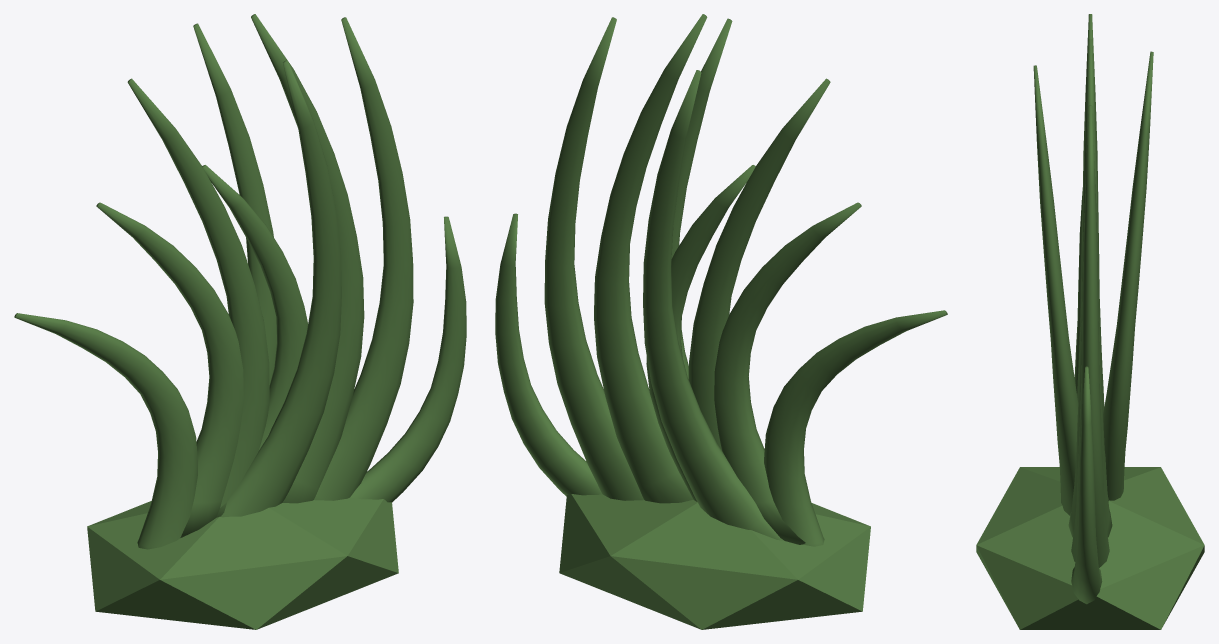
The model's file is Grass.fbx.
The picture shows the model from 3 angles, left to right: view 1: azimuth 30°, elevation 25°; view 2: azimuth 150°, elevation 25°; view 3: azimuth 270°, elevation 25°; orthographic projection. The views are drawn at different scales.
Visible parts, largest first — view 1: Grass; view 2: Grass; view 3: Grass.
Part boxes in pixels (x1,y1,x2,y2): Grass: [14, 14, 466, 629]; Grass: [495, 14, 947, 629]; Grass: [976, 14, 1204, 629].
Size of the model in its own units: 197 by 246 by 89.21.
